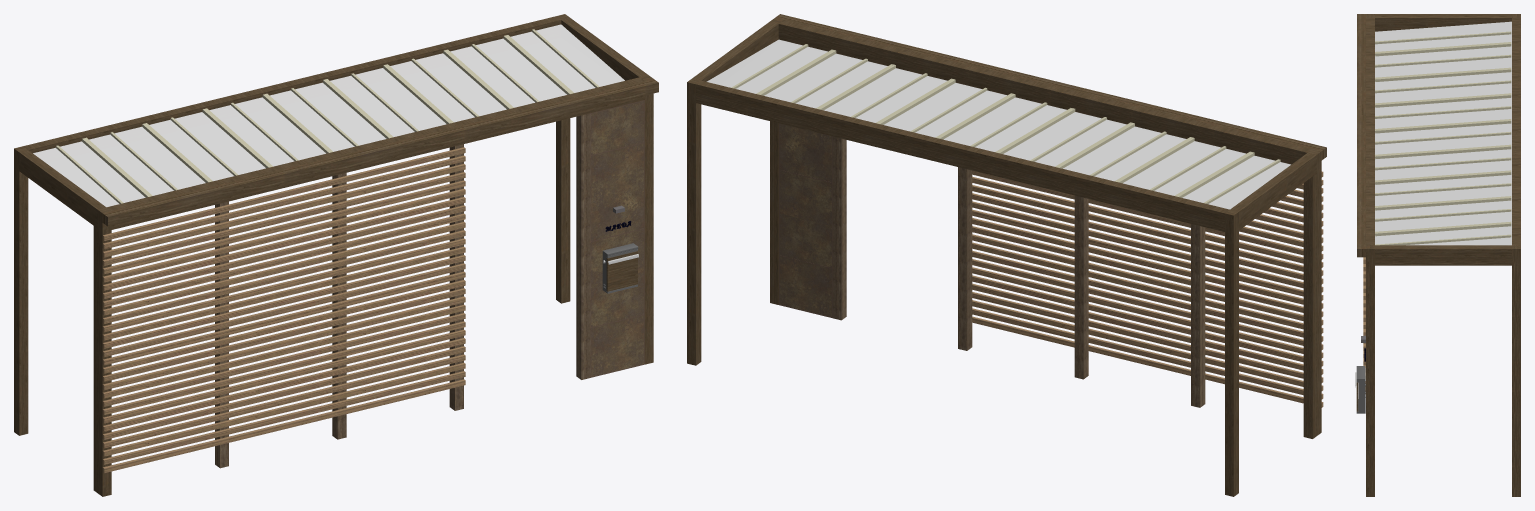
File: hy21-e_brownebony.fbx
3 renders of one model, left to right at view 1: azimuth 30°, elevation 25°; view 2: azimuth 150°, elevation 25°; view 3: azimuth 270°, elevation 25°, orthographic. The views are drawn at different scales.
Parts seen in each view (by area): view 1: hy21-e_browneboy; view 2: hy21-e_browneboy; view 3: hy21-e_browneboy.
Boxes of the visible parts, x1,y1,x2,y2 form: hy21-e_browneboy: (14, 14, 658, 496); hy21-e_browneboy: (687, 14, 1326, 496); hy21-e_browneboy: (1355, 14, 1520, 496).
Size of the model in its own units: 610 by 300 by 182.
Materials: 23 (10 with a texture image).
